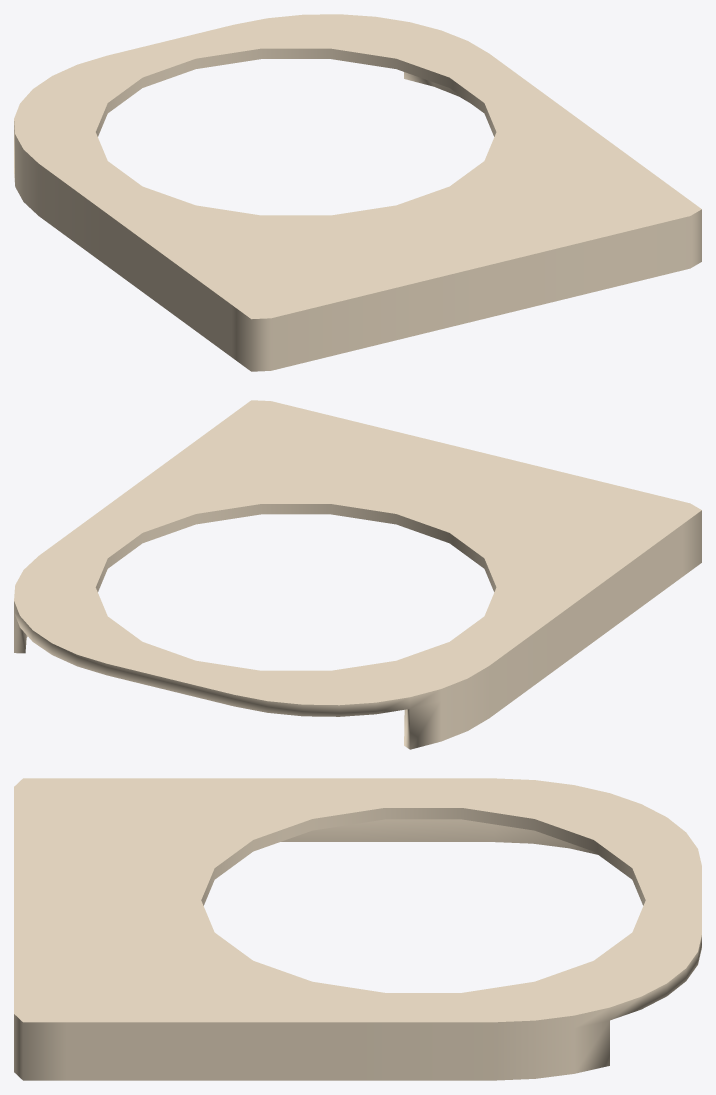
The model's file is cup_base_middle.glb.
The picture shows the model from 3 angles, top to bottom: view 1: azimuth 30°, elevation 25°; view 2: azimuth 150°, elevation 25°; view 3: azimuth 270°, elevation 25°; orthographic projection. The views are drawn at different scales.
Visible parts, largest first — view 1: cup_base_middle.003; view 2: cup_base_middle.003; view 3: cup_base_middle.003.
Boxes of the visible parts, x1,y1,x2,y2 form: cup_base_middle.003: (14, 14, 701, 371); cup_base_middle.003: (14, 400, 701, 749); cup_base_middle.003: (14, 778, 701, 1080).
Size of the model in its own units: 0.0901 by 0.01 by 0.1074.
